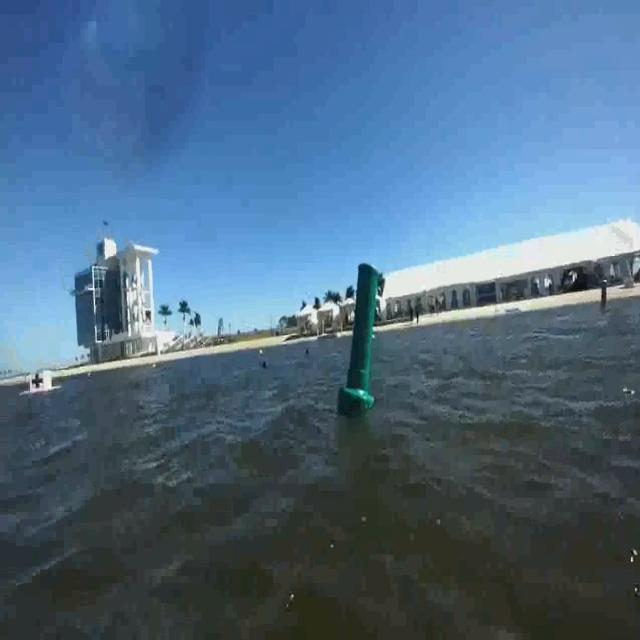green-column-buoy: (340, 259, 380, 410)
